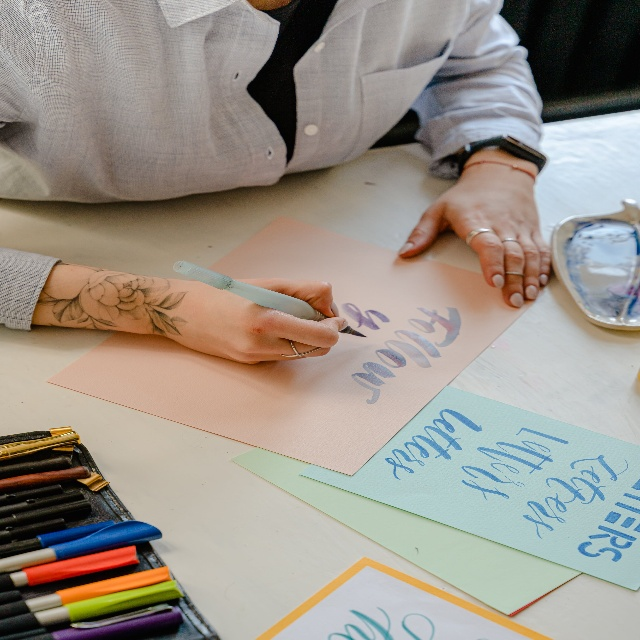Sin_guantes: (400, 152, 550, 308), (142, 278, 348, 365)
